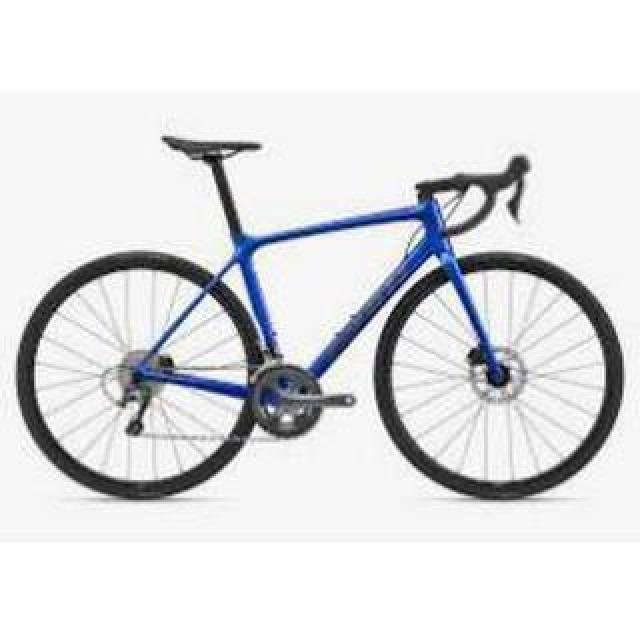Person: (12, 127, 630, 505)
